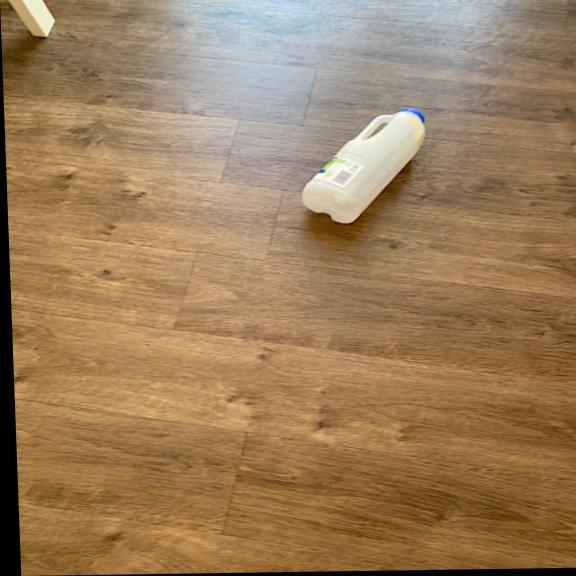Plastik: (296, 103, 437, 228)
